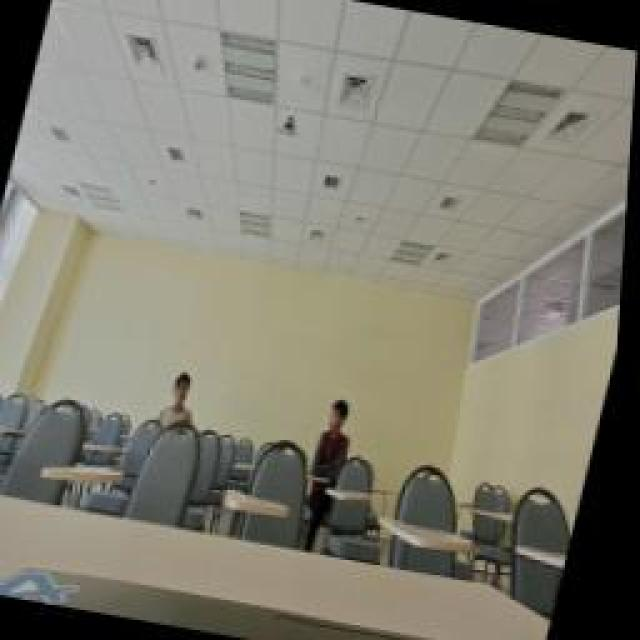study: (310, 398, 365, 490), (155, 370, 207, 445)
